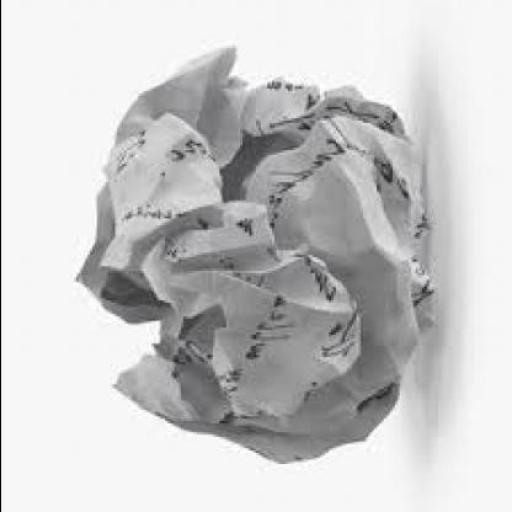paper: (70, 41, 435, 462)
